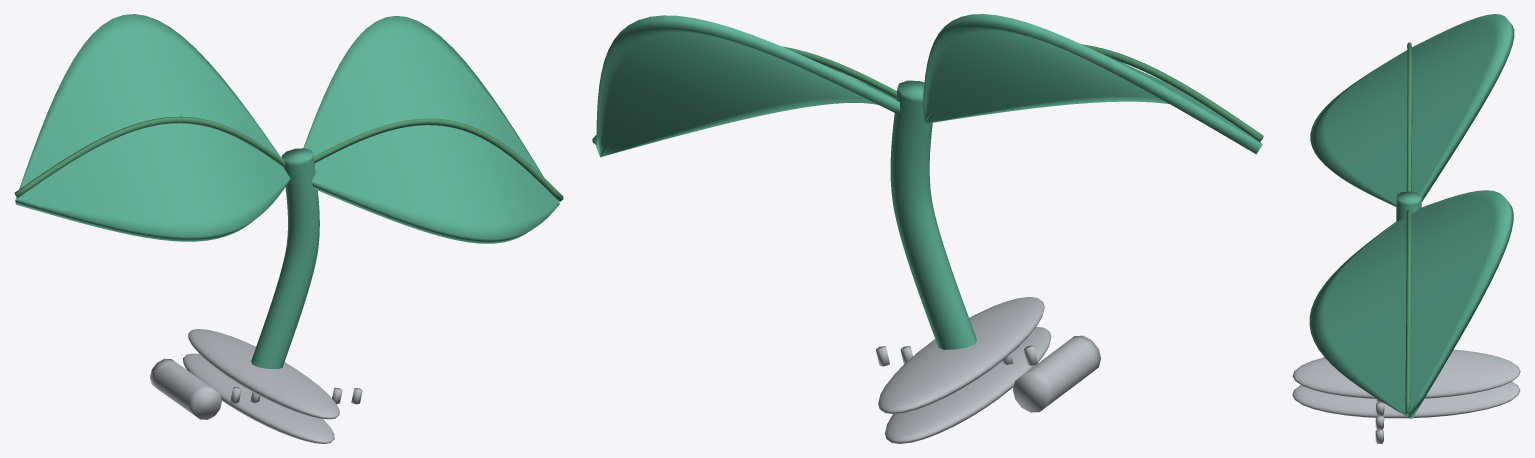
File: Masculine-afro-pashmina251-sprout.glb
The picture shows the model from 3 angles, left to right: view 1: azimuth 30°, elevation 25°; view 2: azimuth 150°, elevation 25°; view 3: azimuth 270°, elevation 25°; orthographic projection. The views are drawn at different scales.
Parts seen in each view (by area): view 1: 226 extra / Accessory / mint226, 226 extra / Sprout / clip silver235, 226 extra / Sprout / leaf vein235; view 2: 226 extra / Accessory / mint226, 226 extra / Sprout / clip silver235, 226 extra / Sprout / leaf vein235; view 3: 226 extra / Accessory / mint226, 226 extra / Sprout / clip silver235, 226 extra / Sprout / leaf vein235.
Boxes of the visible parts, <box> form: 226 extra / Accessory / mint226: <box>15,14,559,368</box>; 226 extra / Sprout / clip silver235: <box>150,329,362,443</box>; 226 extra / Sprout / leaf vein235: <box>14,116,563,201</box>; 226 extra / Accessory / mint226: <box>596,14,1262,349</box>; 226 extra / Sprout / clip silver235: <box>876,297,1100,443</box>; 226 extra / Sprout / leaf vein235: <box>592,44,1263,144</box>; 226 extra / Accessory / mint226: <box>1309,14,1514,418</box>; 226 extra / Sprout / clip silver235: <box>1292,349,1520,443</box>; 226 extra / Sprout / leaf vein235: <box>1405,42,1412,414</box>.
Bounding box in the file's own units: 0.2643 × 0.1737 × 0.104.
